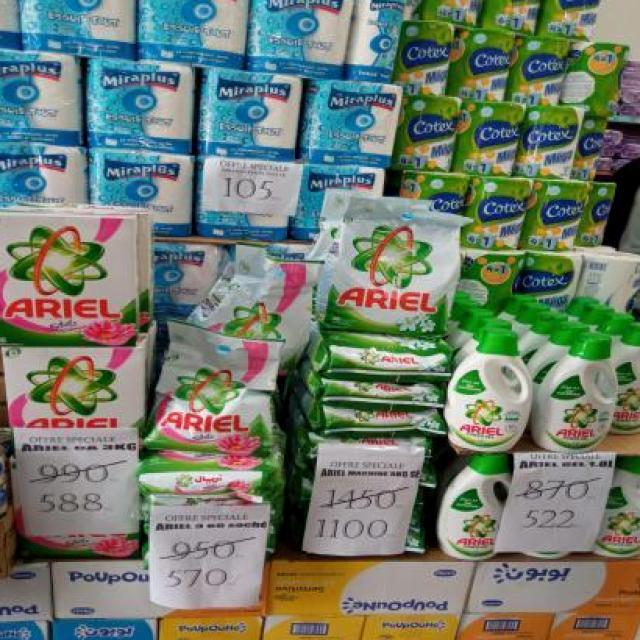Detergent: (326, 197, 464, 335), (0, 212, 140, 344), (140, 326, 278, 459), (0, 344, 147, 429), (441, 328, 533, 451), (538, 339, 618, 452), (316, 333, 454, 385), (439, 451, 502, 561), (138, 455, 283, 502), (320, 379, 448, 412), (601, 453, 640, 559), (607, 323, 640, 436), (318, 408, 448, 435)
